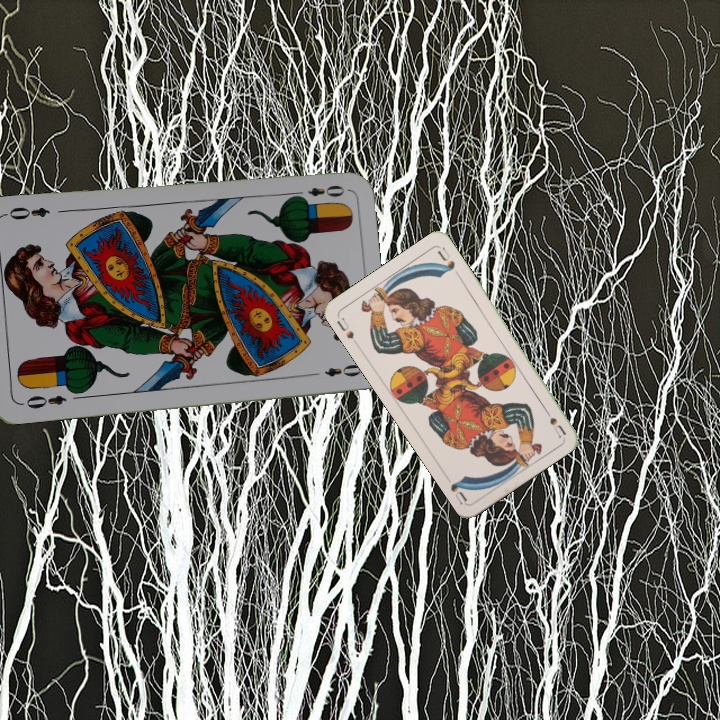EO: (288, 180, 348, 202), (17, 391, 69, 411)
SU: (539, 402, 568, 439), (333, 314, 356, 341)
